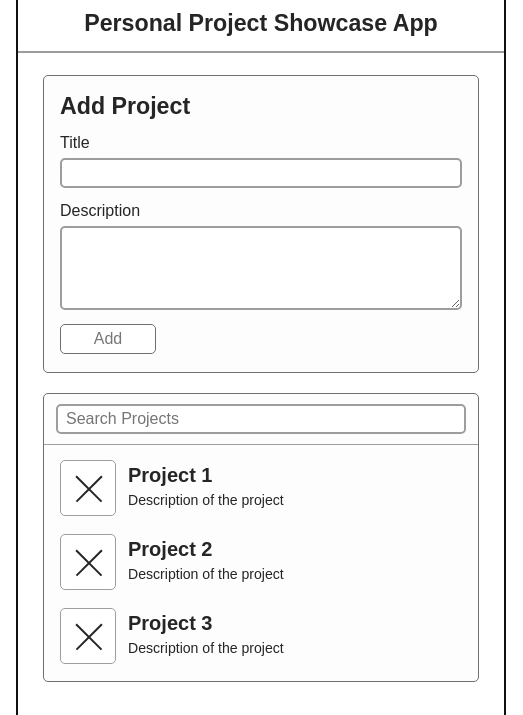
Portfolio platform › adds a new project from the form
This screenshot has width=523, height=715.
Type "Signal House Website" into the field labelled "Title". click: {"x": 261, "y": 173}
box: [60,158,462,188]
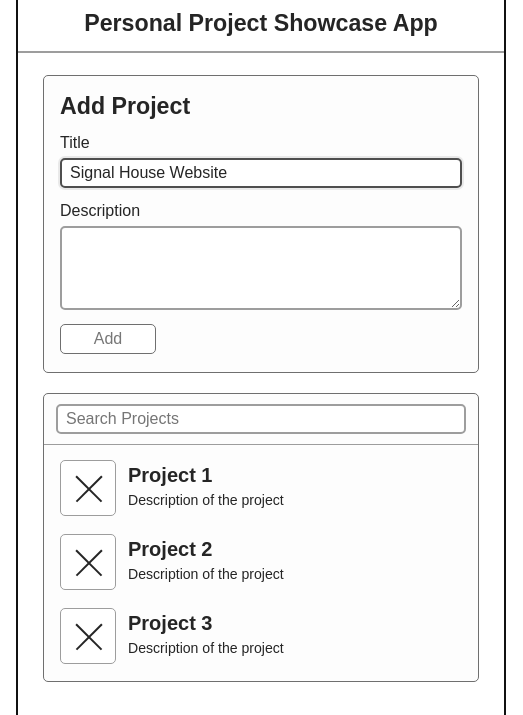
Type "A fast portfolio site for a design collective." into the text box labelled "Description". click: {"x": 261, "y": 268}
box: [60,226,462,310]
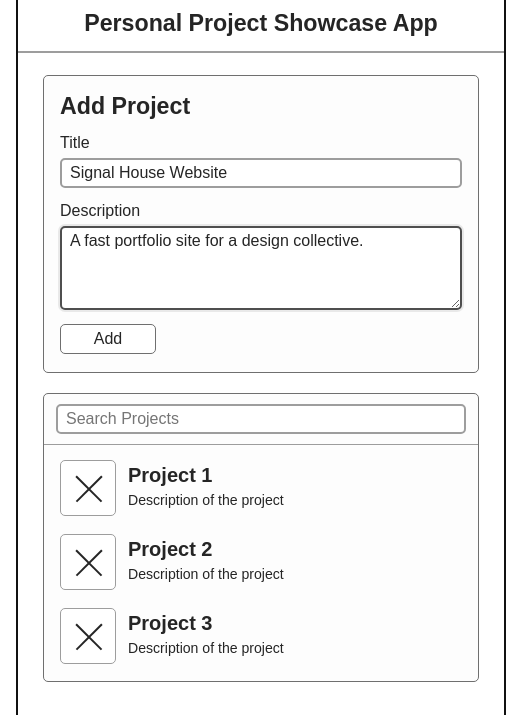
Click the button "Add". click: {"x": 108, "y": 339}
box: [60,324,156,354]
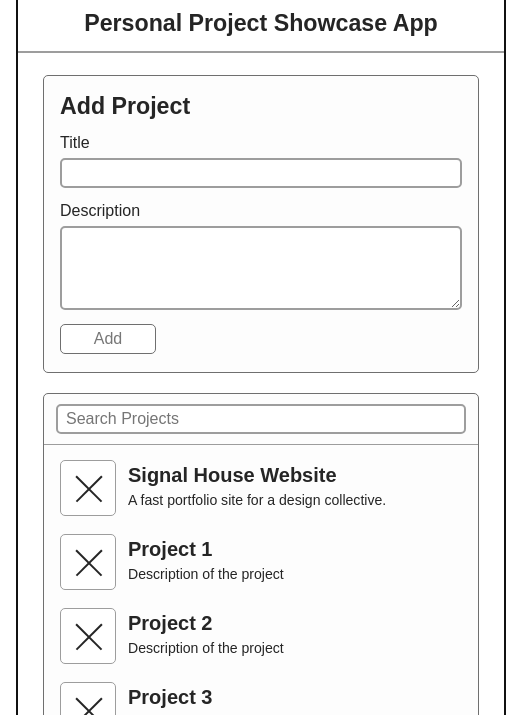
Expected: the heading "Signal House Website" is shown, [128,464,337,486]
Expected: the text "A fast portfolio site for a design collective." is shown, [128,492,386,508]
